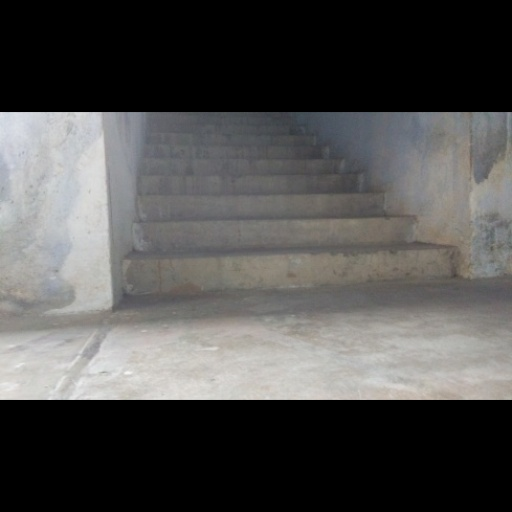Stairs: (123, 114, 455, 294)
